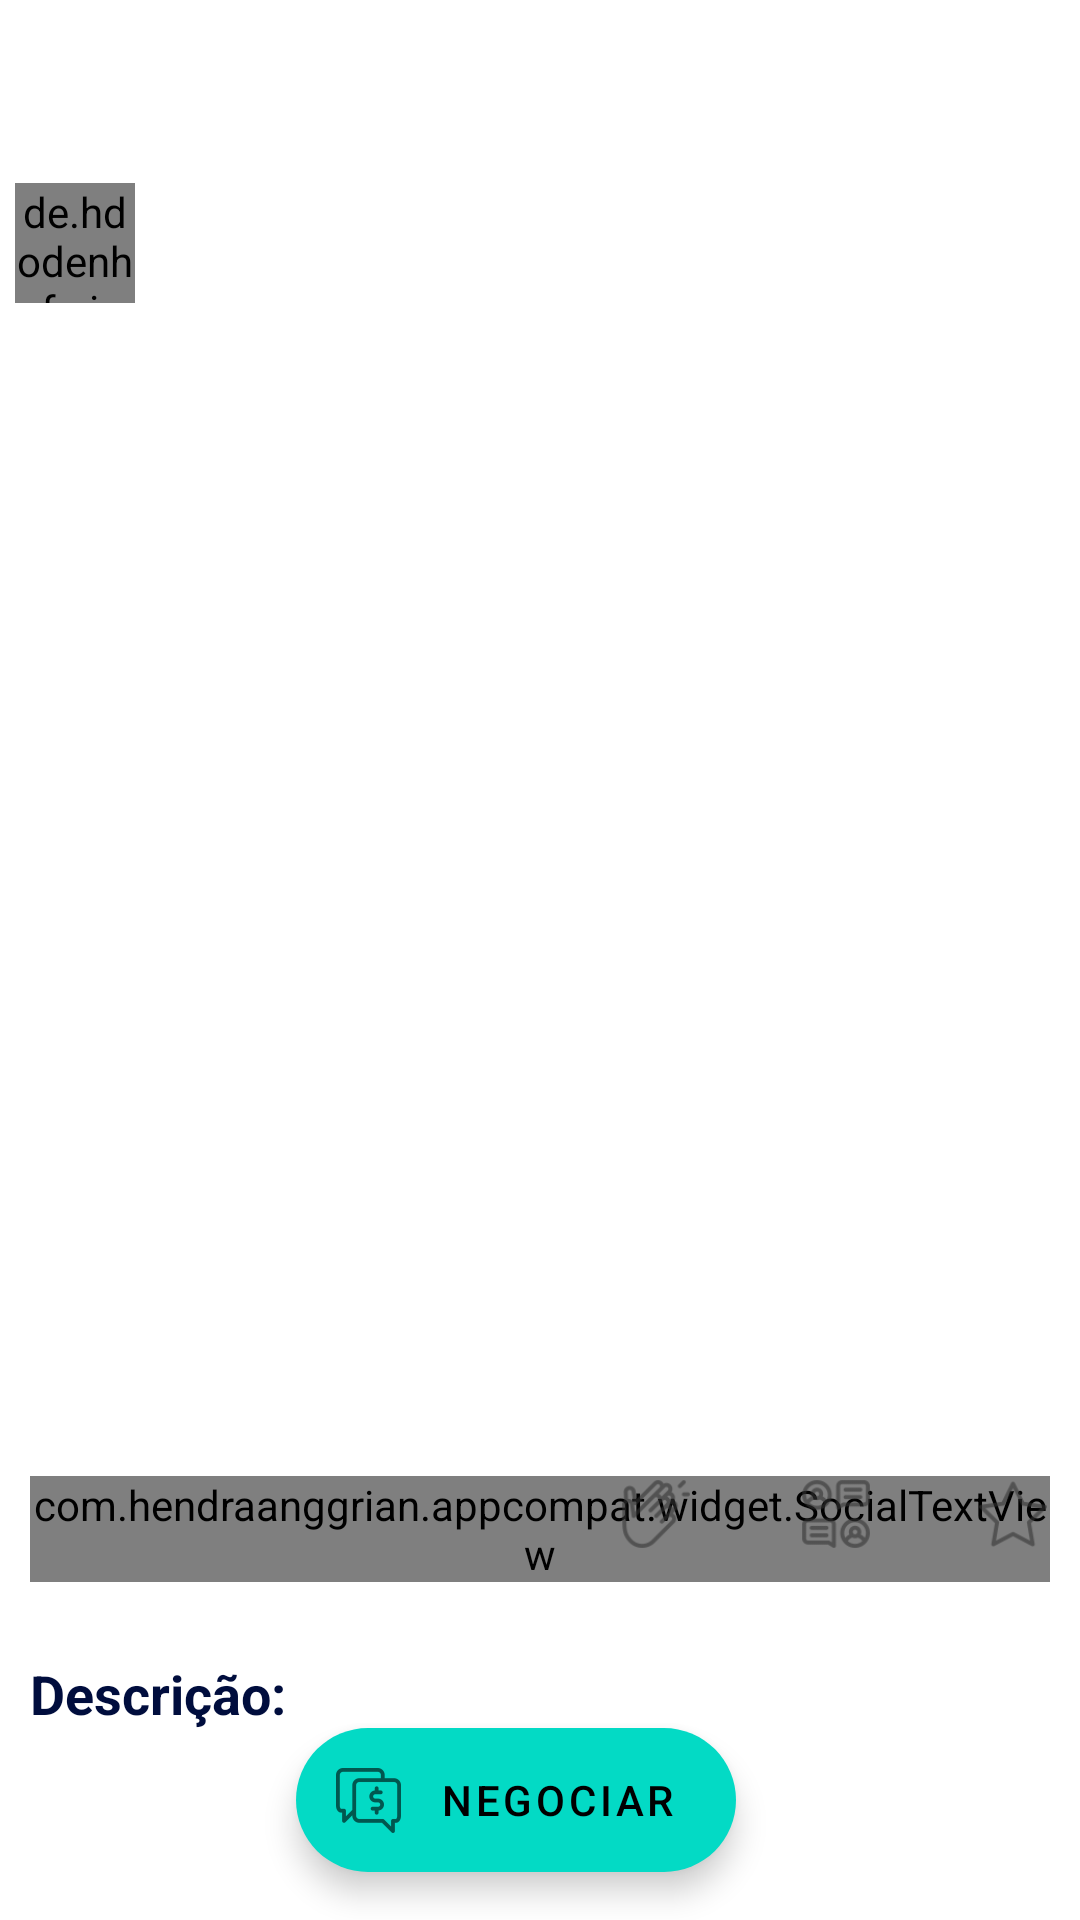

Named icons in this screenshot (1080px x 1920px) and their centers, (x=x, y=y):
aplaudir: (x=655, y=1514)
comentarios: (x=835, y=1514)
favorita: (x=1011, y=1514)
